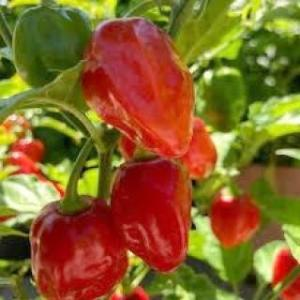bell_pepper: (76, 18, 198, 162)
